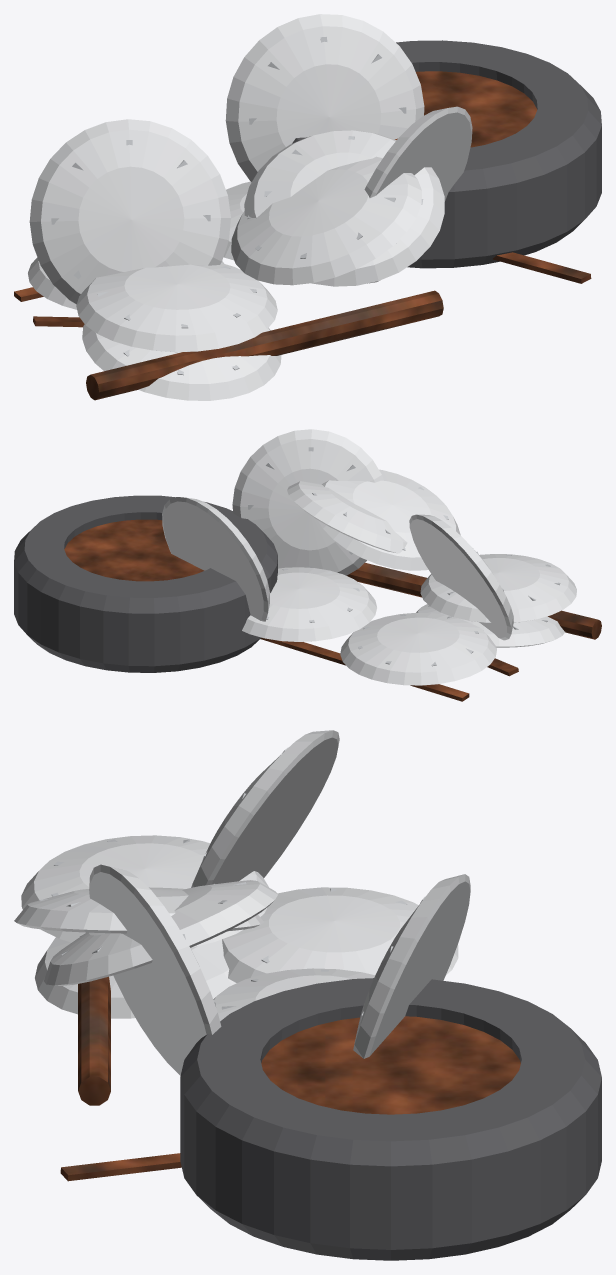
File: pilha_calotas.glb
3 views of the same model, one above another, from view 1: azimuth 30°, elevation 25°; view 2: azimuth 150°, elevation 25°; view 3: azimuth 270°, elevation 25° (orthographic). The views are drawn at different scales.
Visible parts, largest first — view 1: pilha_calotas_calota, pilha_calotas_borracha, pilha_calotas_ferrugem, pilha_calotas_aco; view 2: pilha_calotas_calota, pilha_calotas_borracha, pilha_calotas_ferrugem, pilha_calotas_aco; view 3: pilha_calotas_borracha, pilha_calotas_calota, pilha_calotas_ferrugem.
Boxes of the visible parts, <box> form: pilha_calotas_calota: <box>28,14,472,400</box>; pilha_calotas_borracha: <box>292,40,601,268</box>; pilha_calotas_ferrugem: <box>14,71,591,400</box>; pilha_calotas_aco: <box>51,37,423,375</box>; pilha_calotas_calota: <box>162,429,576,685</box>; pilha_calotas_borracha: <box>14,495,277,672</box>; pilha_calotas_ferrugem: <box>64,519,601,701</box>; pilha_calotas_aco: <box>248,447,560,666</box>; pilha_calotas_borracha: <box>180,978,601,1260</box>; pilha_calotas_calota: <box>14,730,470,1075</box>; pilha_calotas_ferrugem: <box>60,976,520,1181</box>.
Bounding box in the file's own units: 1.32 × 0.4202 × 0.8923.
4 materials, 1 textured.
